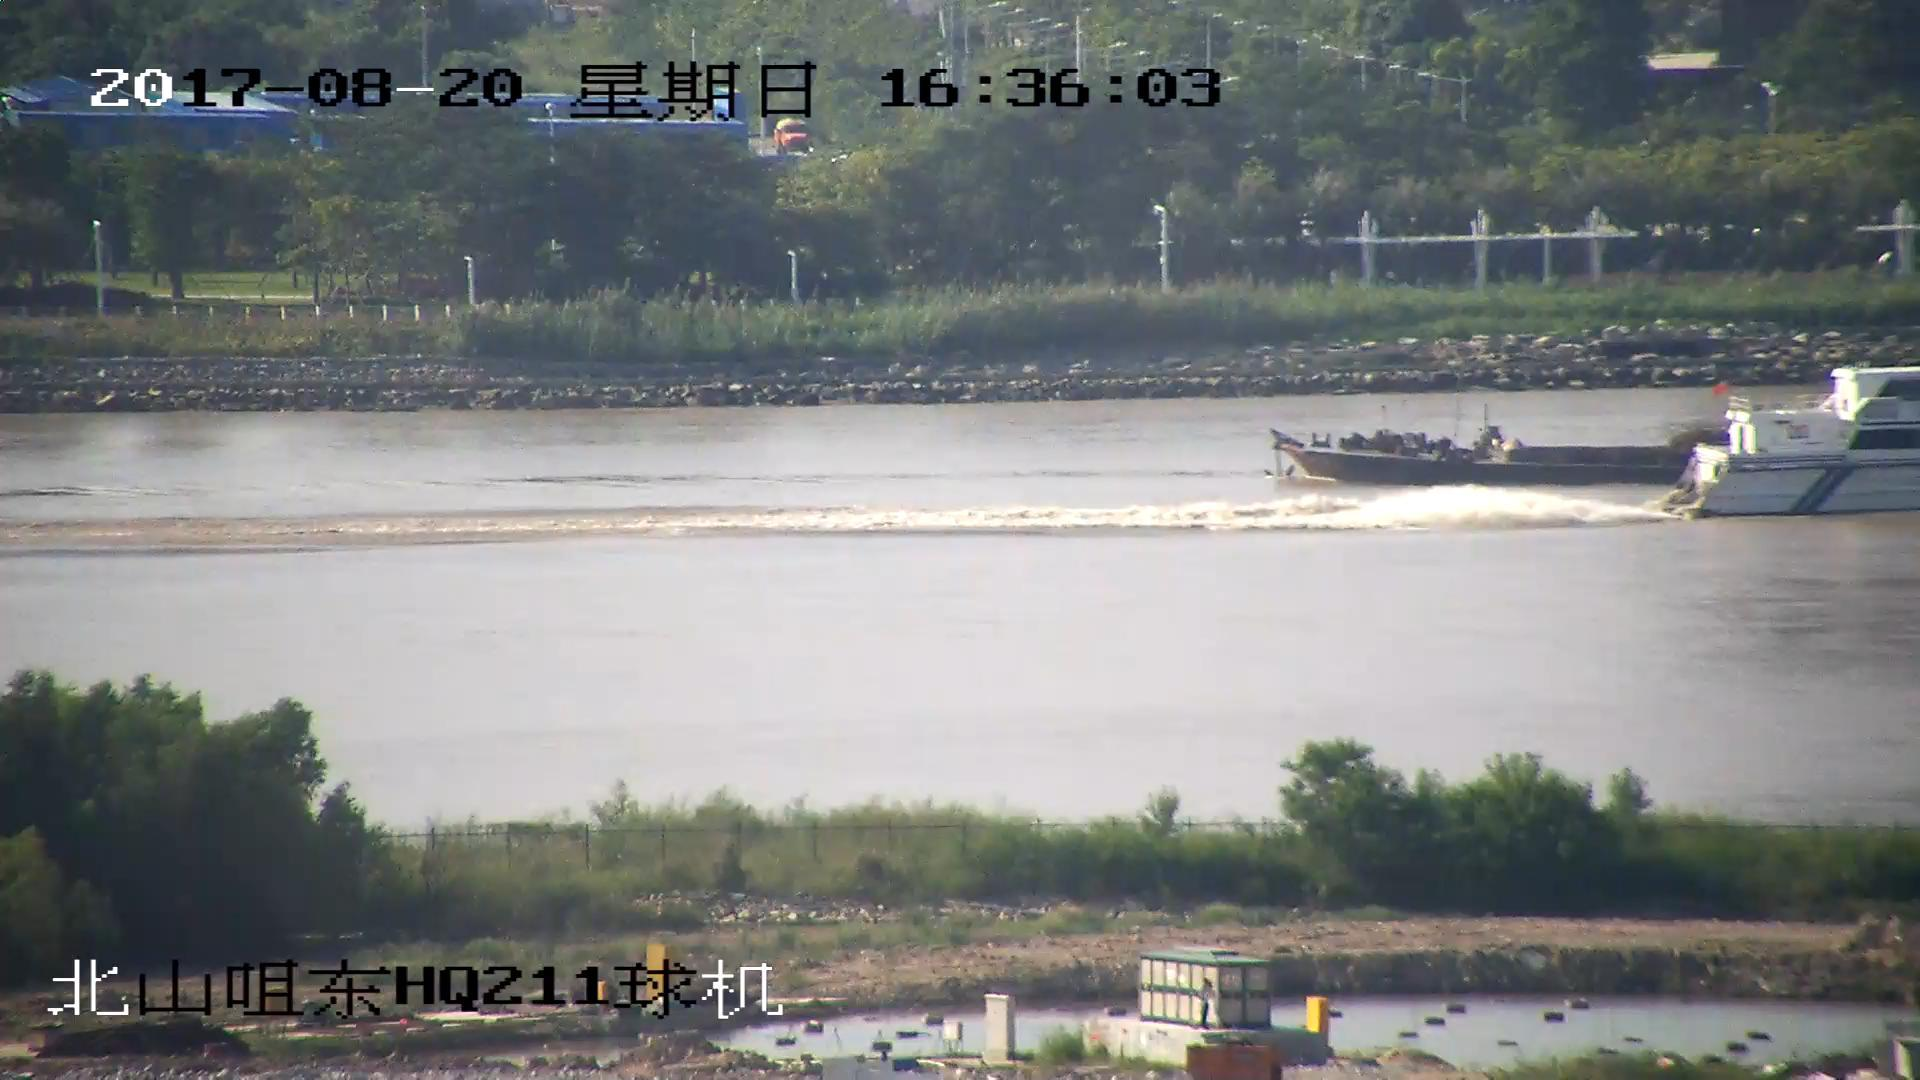Ship: (1271, 392, 1920, 487), (1685, 371, 1920, 516)
